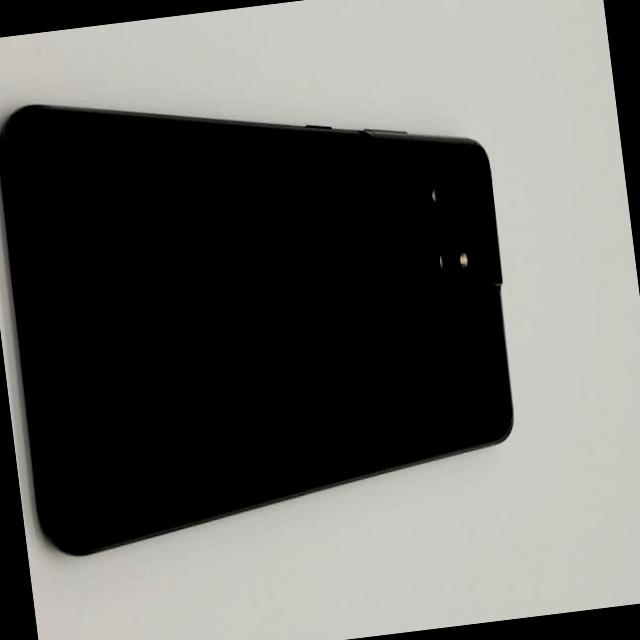lens_back: (380, 162, 424, 226), (452, 162, 493, 226), (419, 163, 461, 225)
phone: (0, 42, 537, 563)
